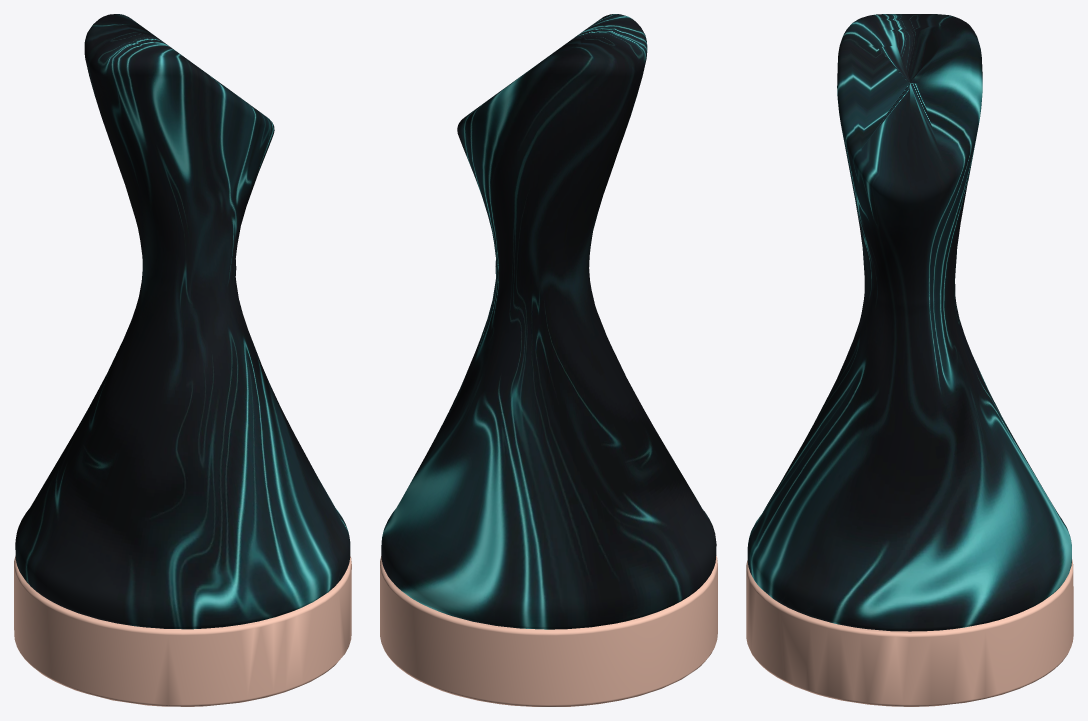
Rendered from knight-black.glb.
The picture shows the model from 3 angles, left to right: view 1: azimuth 30°, elevation 25°; view 2: azimuth 150°, elevation 25°; view 3: azimuth 270°, elevation 25°; orthographic projection. The views are drawn at different scales.
Parts seen in each view (by area): view 1: jezdec_cerna; view 2: jezdec_cerna; view 3: jezdec_cerna.
Boxes of the visible parts, x1,y1,x2,y2 form: jezdec_cerna: (14, 14, 351, 706); jezdec_cerna: (380, 14, 717, 706); jezdec_cerna: (746, 14, 1073, 706).
Size of the model in its own units: 0.6737 by 1.35 by 0.6737.
2 materials, 1 textured.
